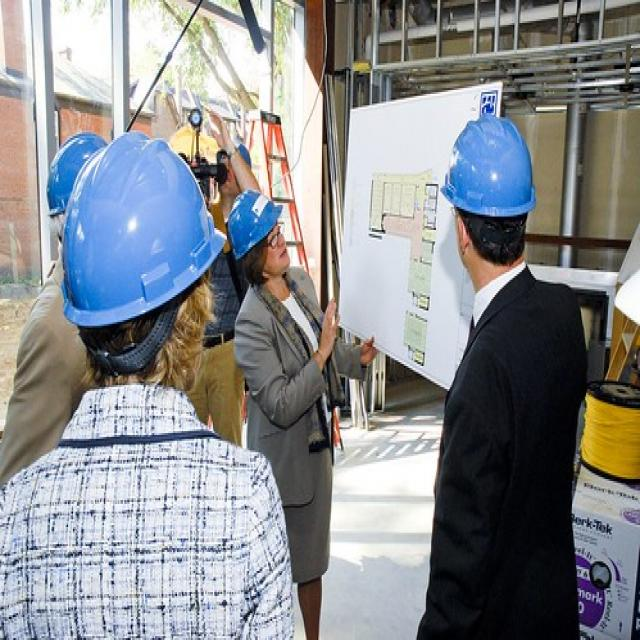Safety-Helmet: (53, 128, 228, 332), (434, 108, 541, 222), (36, 123, 115, 228), (224, 184, 284, 262)
